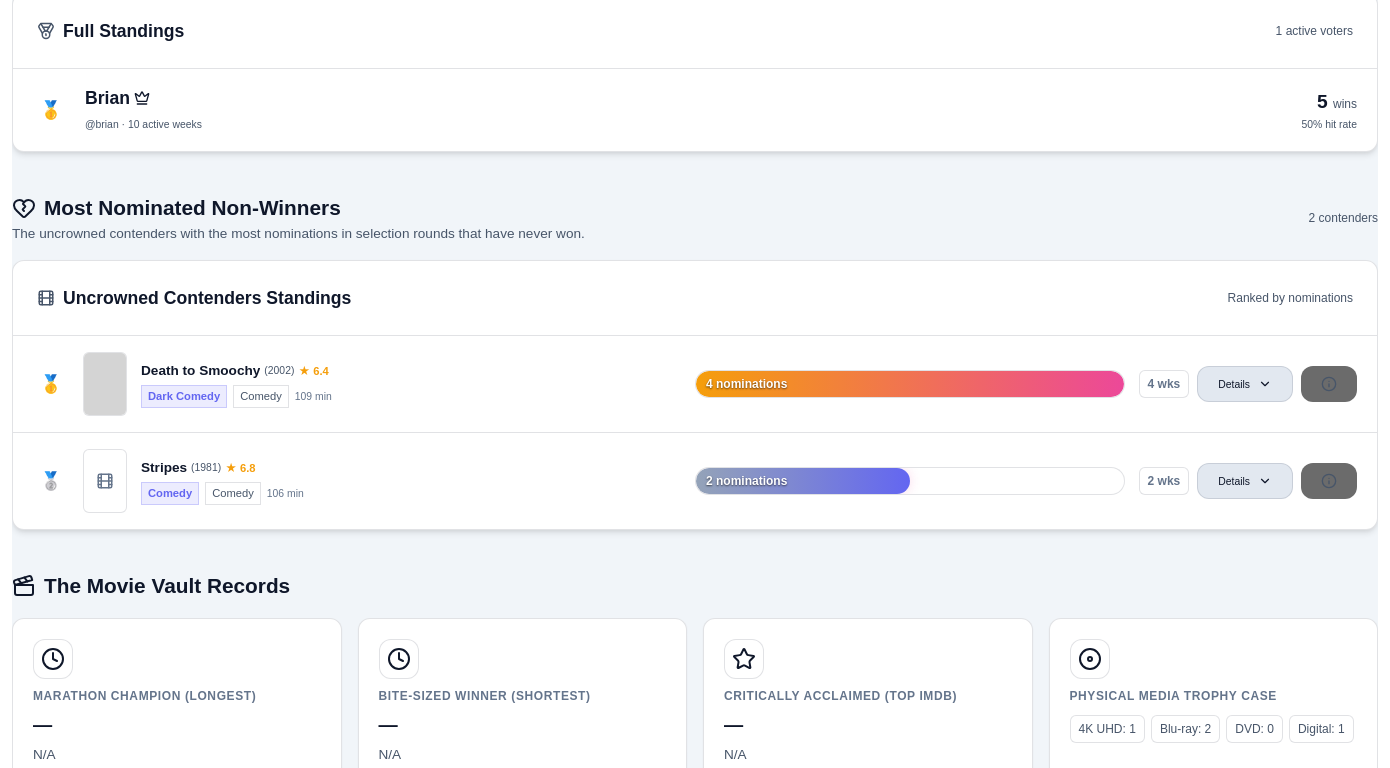
Test case: LeaderboardView › toggles the breakdown drawer when clicking details
(page scrolled)
Expected: the text "Nominated by users 4 times across 4 weeks" is not shown
Find and click the Details button for Death to Smoochy
Step 1. Click the button "Details" in the row of "109 min" → (1245, 384), box [1197, 366, 1293, 402]
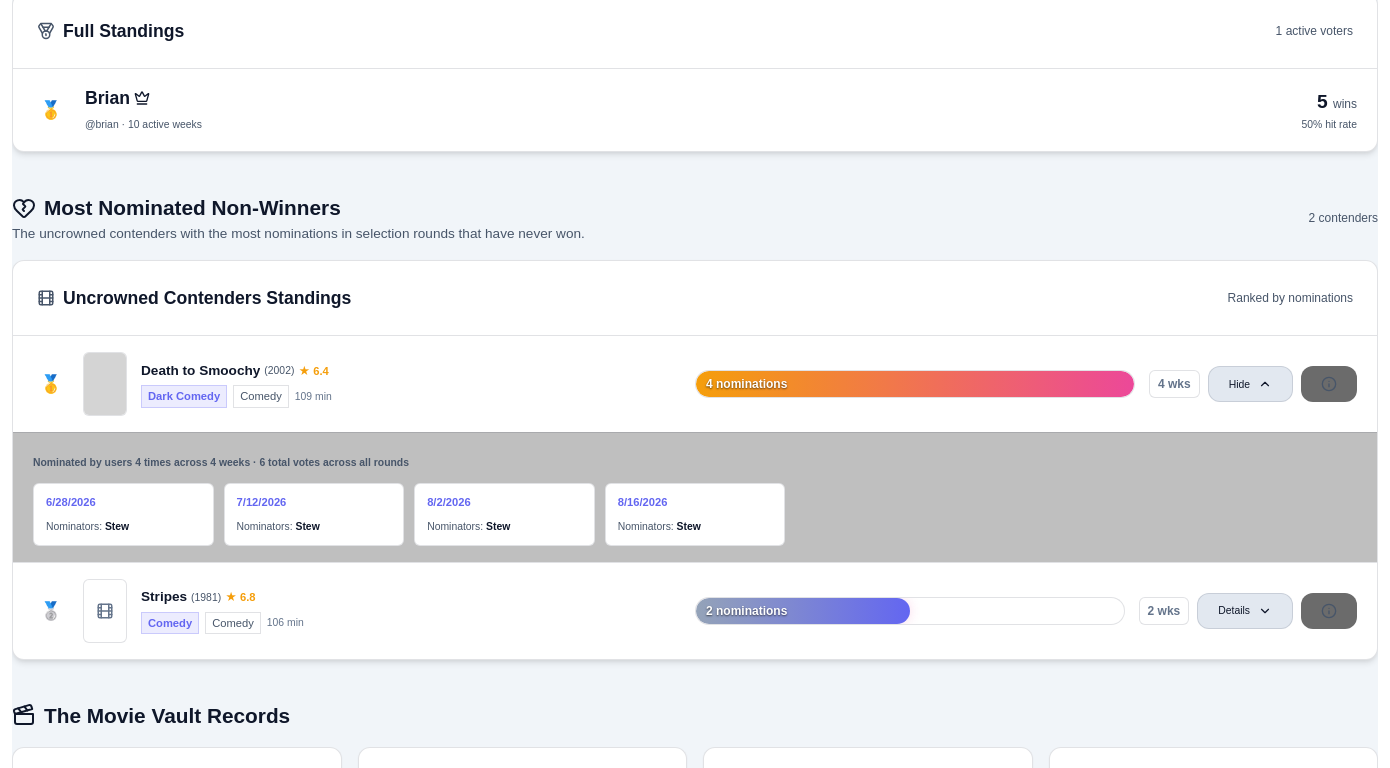
Expected: the text "Nominated by users 4 times across 4 weeks" is shown, [33, 457, 409, 468]
Toggle hide
Step 2. Click the button "Hide" → (1250, 384), box [1208, 366, 1293, 402]
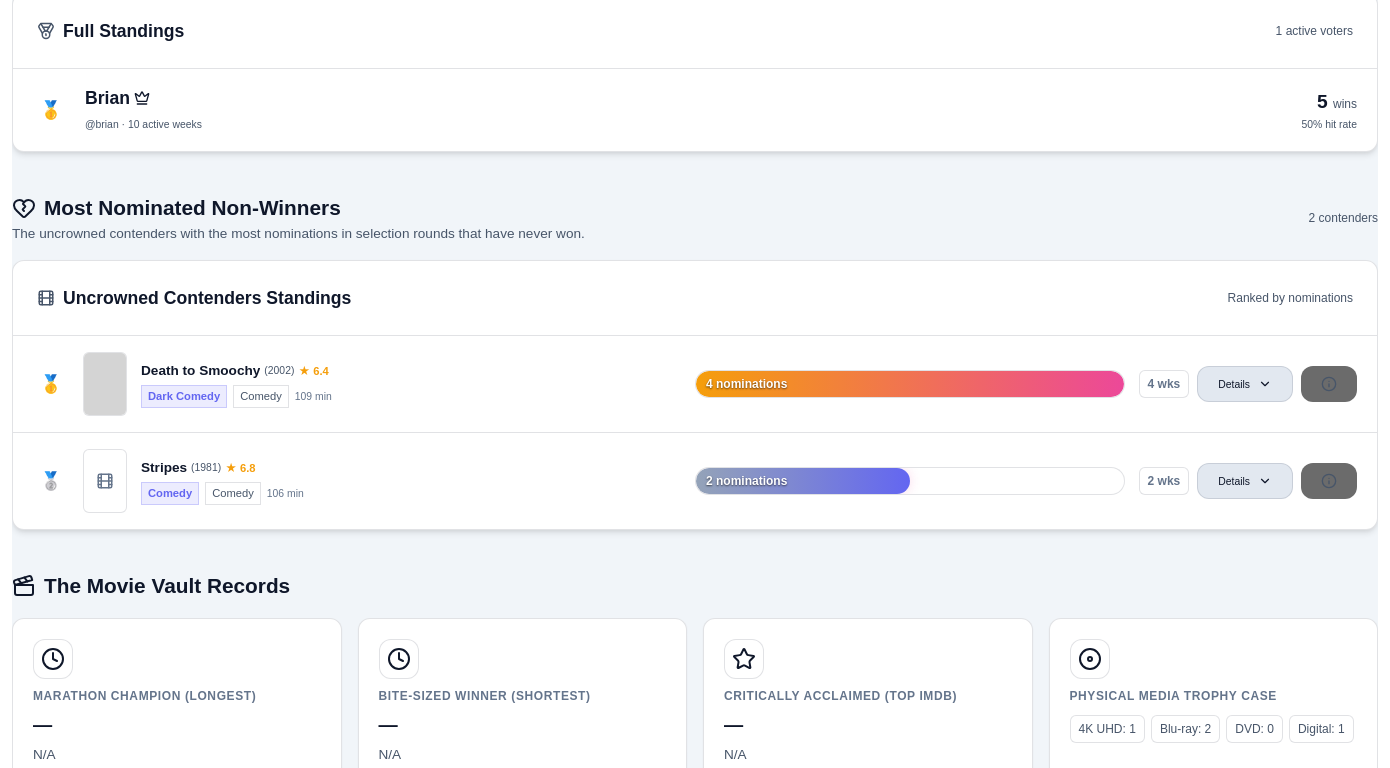
Expected: the text "Nominated by users 4 times across 4 weeks" is gone
Check second item (Stripes) which has no watchedDate provided - falls back to Week #5
Step 3. Click the button "Details" in the row of "106 min" → (1245, 481), box [1197, 463, 1293, 499]
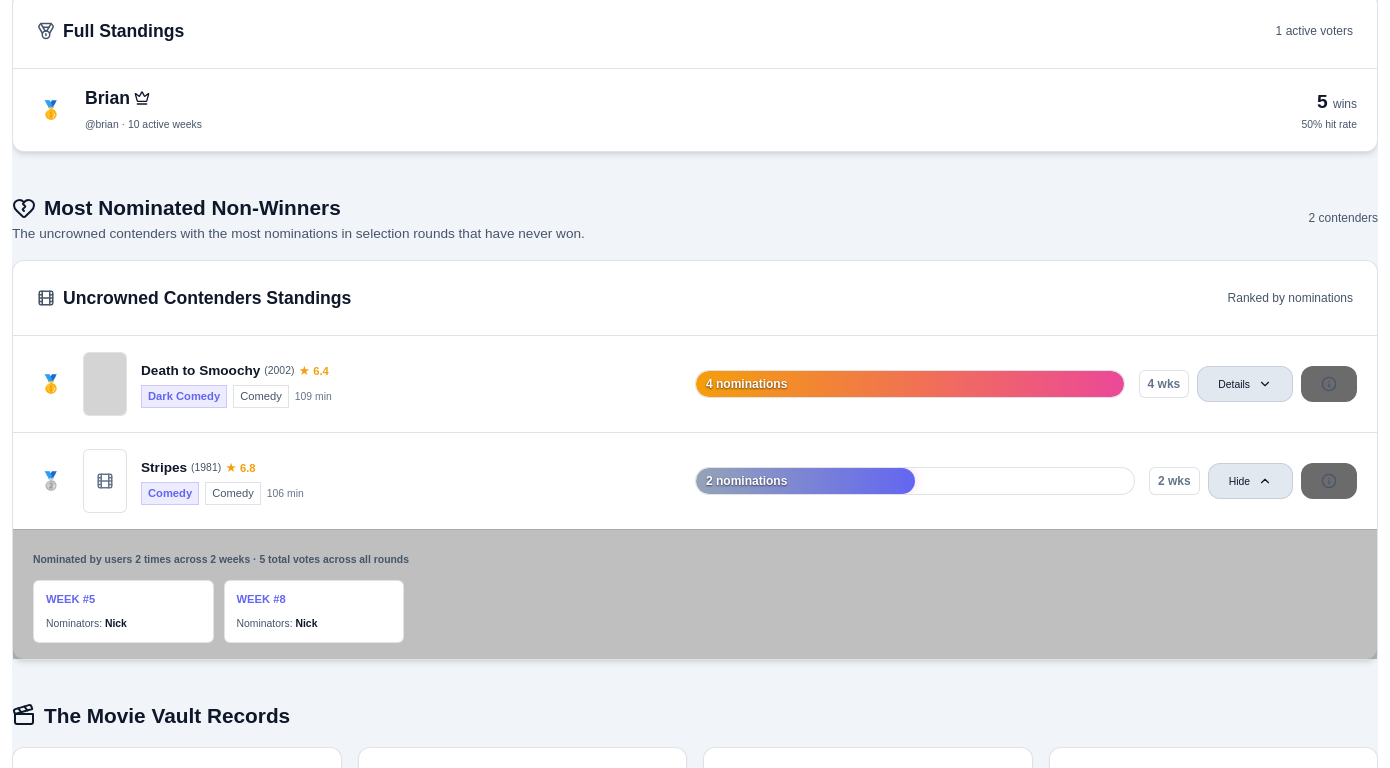
Expected: the text "Week #5" is shown, [46, 593, 95, 605]
Expected: the text "Week #8" is shown, [237, 593, 286, 605]
